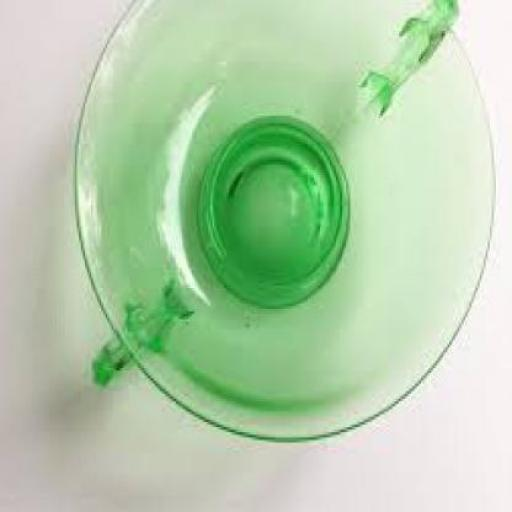glass: (72, 0, 494, 443)
